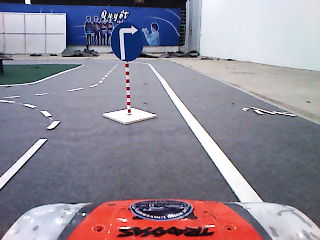turn: (106, 20, 146, 62)
